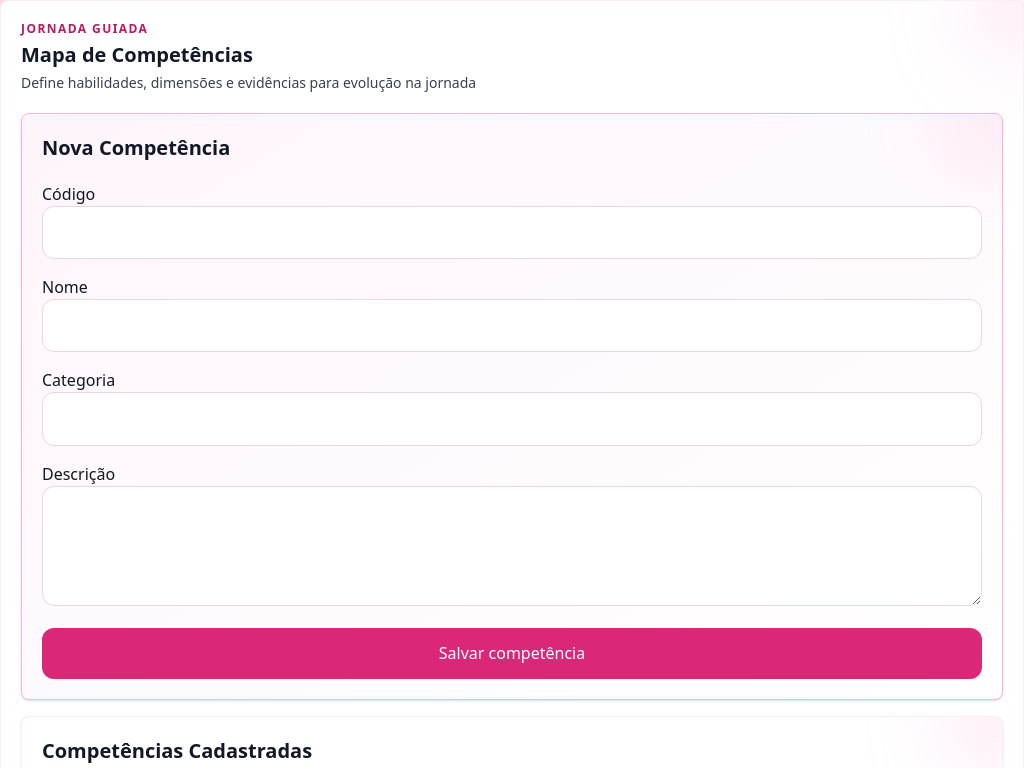
CompetenciesPage › renderiza fallbacks e mostra erro ao salvar
Click the button "Salvar competência" at (512, 653), box [42,628,982,679]
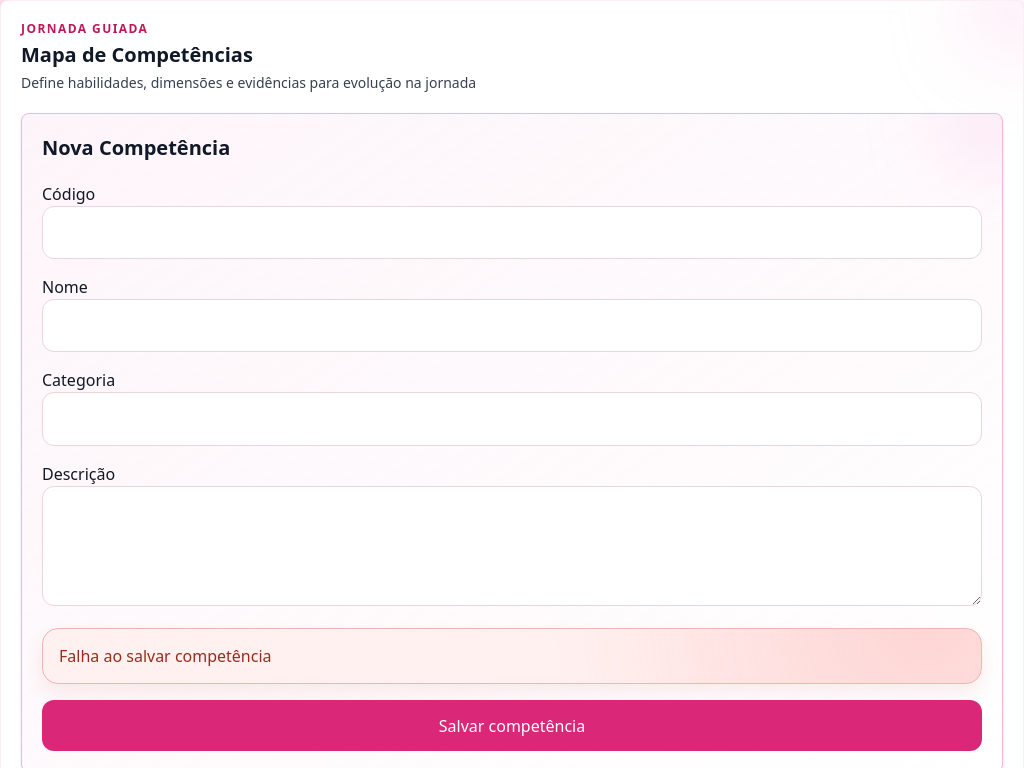
Expected: the text "Falha ao salvar competência" is shown, [42,628,982,684]
